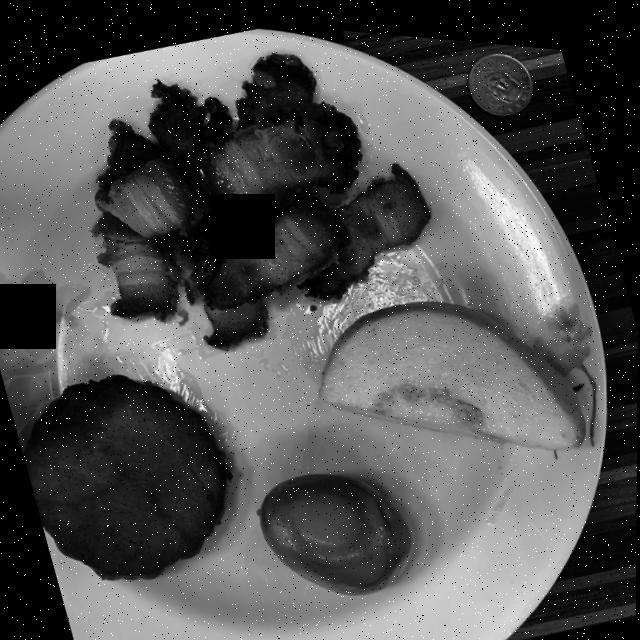Spam: (22, 372, 230, 577)
coin: (466, 44, 532, 107)
guava -sliced-: (318, 293, 585, 440)
red grilled pork: (94, 48, 429, 346)
soy egg: (258, 467, 411, 589)
